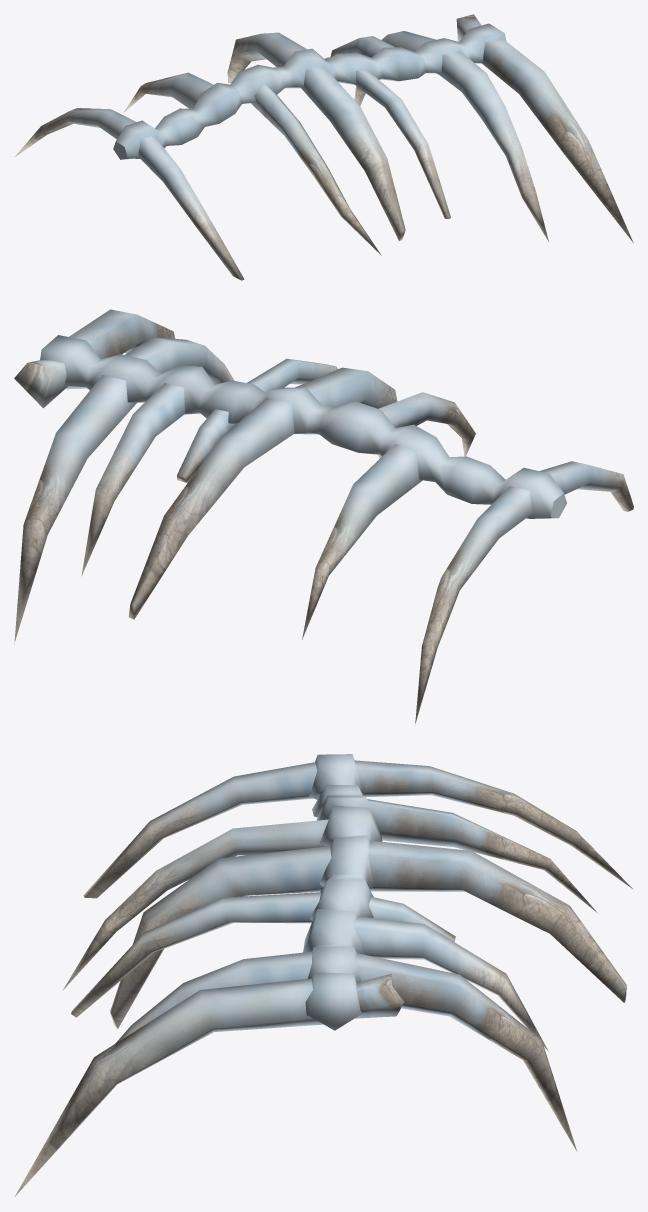
File: Ice_bones01.FBX
3 views of the same model, one above another, from view 1: azimuth 30°, elevation 25°; view 2: azimuth 150°, elevation 25°; view 3: azimuth 270°, elevation 25° (orthographic). The views are drawn at different scales.
Parts seen in each view (by area): view 1: 10204_bone007; view 2: 10204_bone007; view 3: 10204_bone007.
Part boxes in pixels (box(x1,y1,x2,y2)): 10204_bone007: box(15, 14, 633, 280); 10204_bone007: box(14, 309, 633, 723); 10204_bone007: box(14, 754, 633, 1196).
Bounding box in the file's own units: 1052 × 404 × 998.
